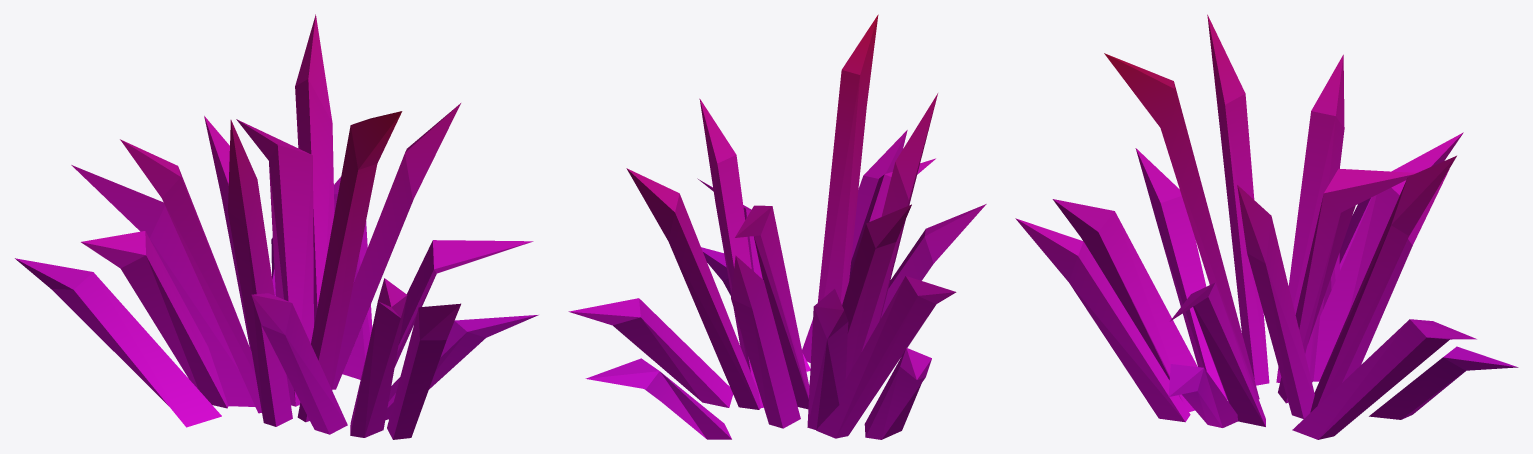
The model's file is SM_Env_Plant_Grass_02.glb.
The picture shows the model from 3 angles, left to right: view 1: azimuth 30°, elevation 25°; view 2: azimuth 150°, elevation 25°; view 3: azimuth 270°, elevation 25°; orthographic projection. The views are drawn at different scales.
Parts seen in each view (by area): view 1: SM_Env_Plant_Grass_02; view 2: SM_Env_Plant_Grass_02; view 3: SM_Env_Plant_Grass_02.
Part boxes in pixels (x1,y1,x2,y2): SM_Env_Plant_Grass_02: (15, 14, 538, 439); SM_Env_Plant_Grass_02: (568, 14, 986, 439); SM_Env_Plant_Grass_02: (1015, 14, 1518, 439).
Size of the model in its own units: 80.04 by 70.79 by 92.89.
